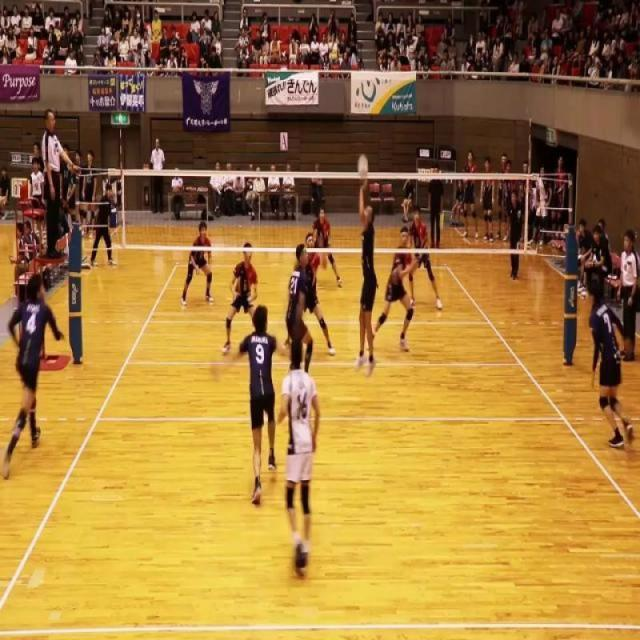volleyball: (358, 152, 370, 178)
